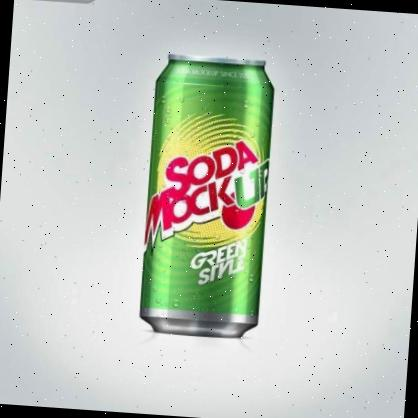can: (129, 44, 281, 340)
